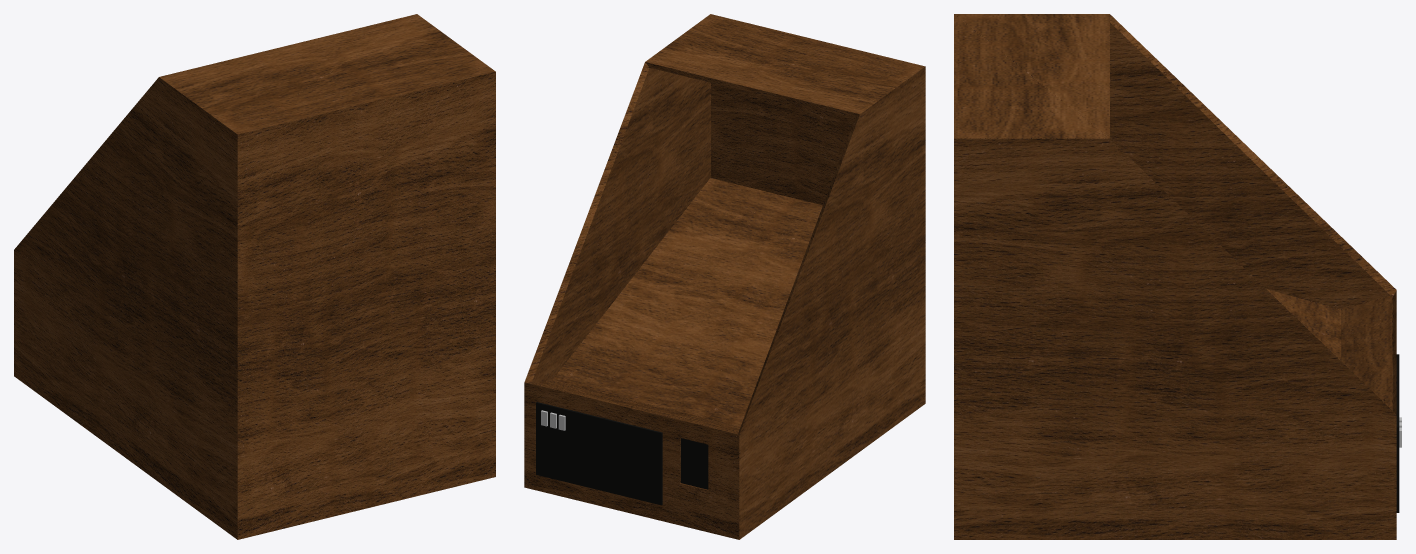
The model's file is basketBox.fbx.
3 renders of one model, left to right at view 1: azimuth 30°, elevation 25°; view 2: azimuth 150°, elevation 25°; view 3: azimuth 270°, elevation 25°, orthographic. The views are drawn at different scales.
Visible parts, largest first — view 1: box; view 2: box; view 3: box.
Boxes of the visible parts, box(x1,y1,x2,y2) form: box: box(14, 14, 495, 539); box: box(524, 14, 925, 539); box: box(954, 14, 1401, 539).
Bounding box in the file's own units: 2 × 3.04 × 3.
5 materials, 1 textured.
